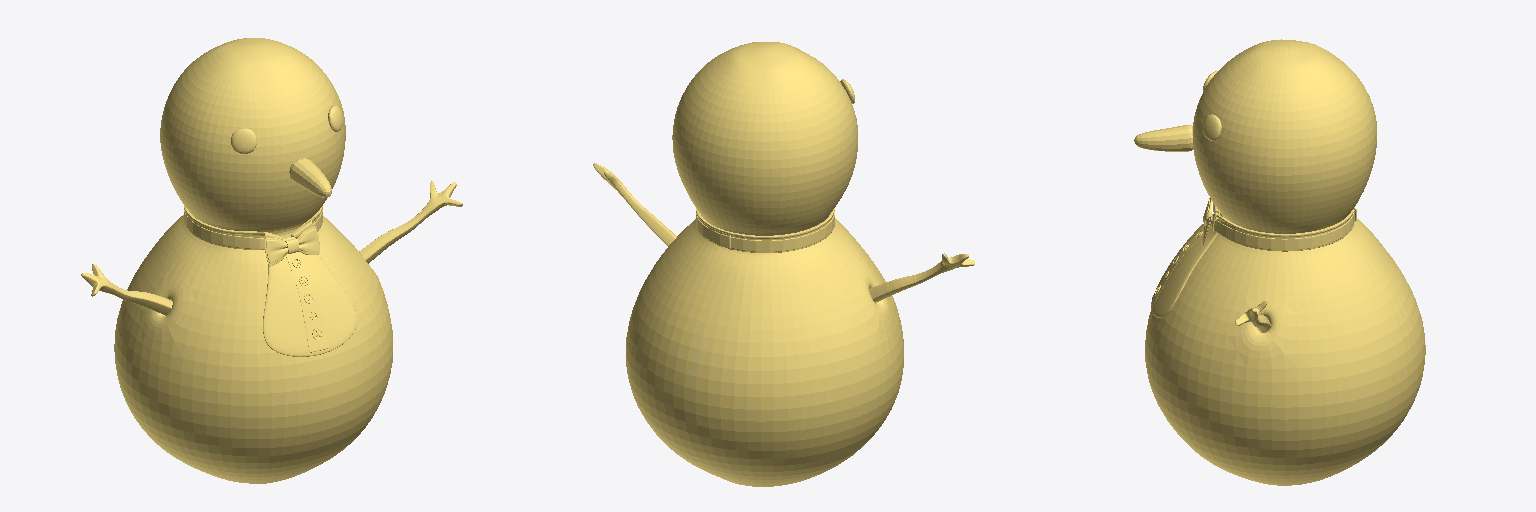
3 renders of one model, left to right at view 1: azimuth 30°, elevation 25°; view 2: azimuth 150°, elevation 25°; view 3: azimuth 270°, elevation 25°, orthographic.
Visible parts, largest first — view 1: body, skirt1, hands, skirt3, skirt2, bowtie, nose, eyes; view 2: body, skirt3, hands; view 3: body, skirt3, skirt1, nose, hands.
Boxes of the visible parts, x1,y1,x2,y2 form: body: [114, 38, 392, 483]; skirt1: [263, 238, 356, 356]; hands: [81, 181, 462, 315]; skirt3: [184, 205, 322, 249]; skirt2: [283, 237, 329, 352]; bowtie: [265, 226, 319, 266]; nose: [289, 158, 331, 197]; eyes: [231, 106, 342, 153]; body: [626, 42, 903, 486]; skirt3: [696, 208, 834, 252]; hands: [593, 163, 974, 302]; body: [1145, 39, 1425, 485]; skirt3: [1211, 203, 1356, 251]; skirt1: [1151, 219, 1217, 317]; nose: [1134, 125, 1192, 151]; hands: [1235, 300, 1271, 332].
Size of the model in its own units: 3.2 by 3.38 by 2.15.
Materials: 1 (1 with a texture image).